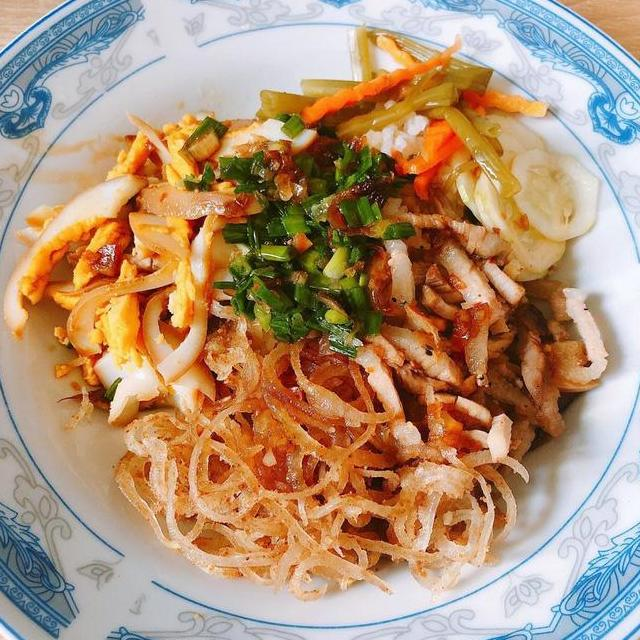bi: (110, 379, 389, 604), (369, 439, 532, 601)
dua chua: (251, 17, 552, 206)
suon: (347, 274, 612, 470), (318, 169, 530, 341)
trung: (0, 104, 323, 432)
